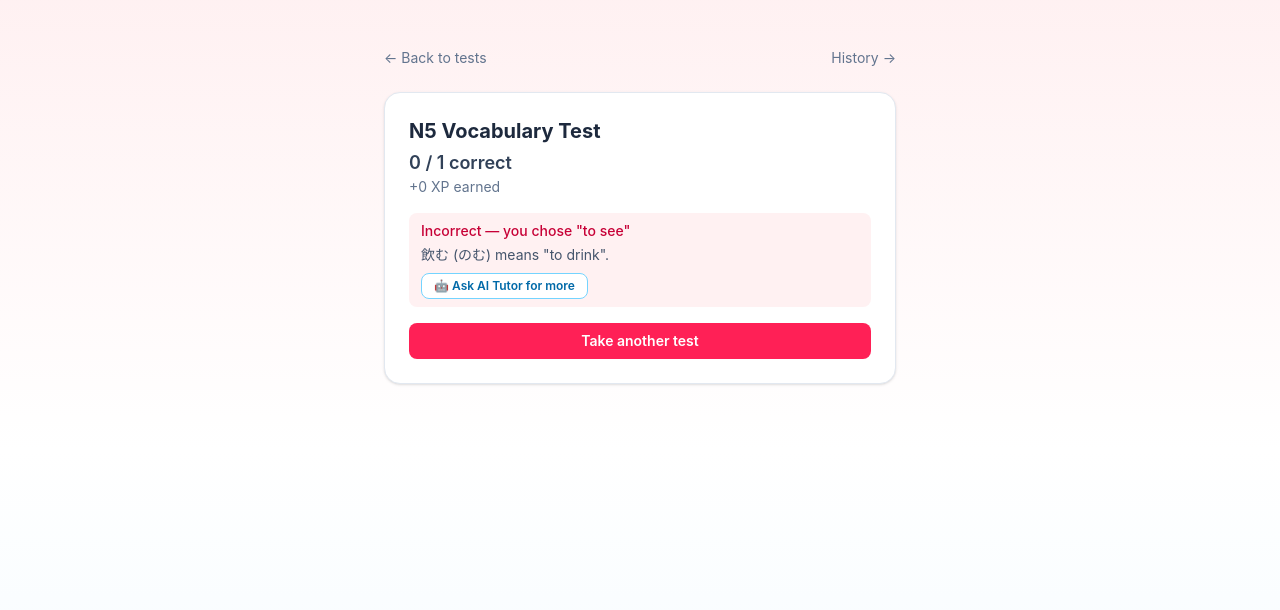
Test: TestResultPage › asks the AI Tutor for more on an incorrect answer
What coordinates should you click on to do the following:
click the button "🤖 Ask AI Tutor for more"
I would click on:
 (504, 286)
Its box is [421,273,588,299].
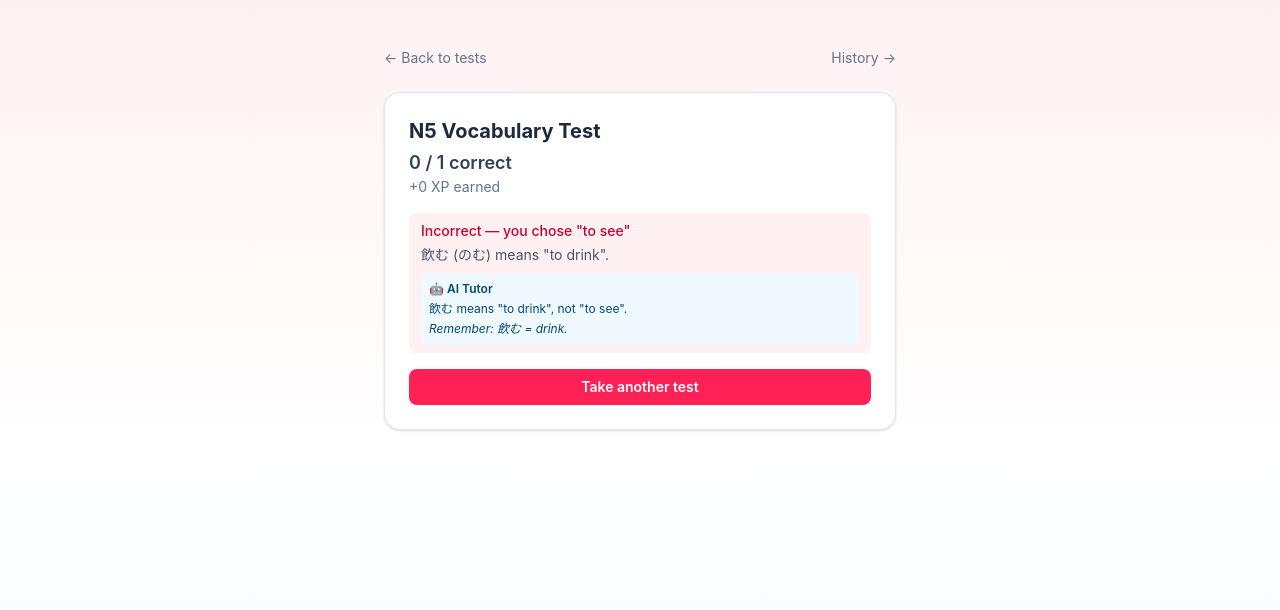
expect the text "飲む means \"to drink\", not \"to see\"." is shown: met, box [429,301,627,316]
